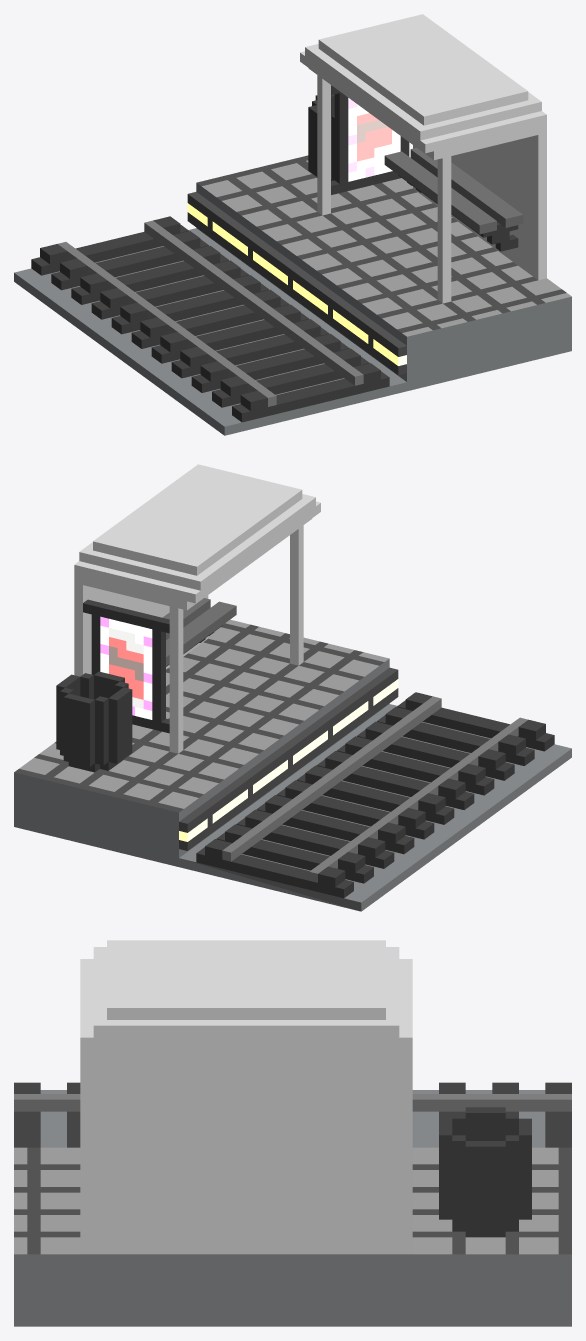
The model's file is STATION.glb.
3 renders of one model, top to bottom at view 1: azimuth 30°, elevation 25°; view 2: azimuth 150°, elevation 25°; view 3: azimuth 270°, elevation 25°, orthographic. The views are drawn at different scales.
Parts seen in each view (by area): view 1: station.001; view 2: station.001; view 3: station.001.
Part boxes in pixels (<box>): station.001: <box>14,14,571,435</box>; station.001: <box>14,464,571,911</box>; station.001: <box>14,940,571,1326</box>.
Bounding box in the file's own units: 4 × 2.6 × 4.2.
Materials: 12 (1 with a texture image).
